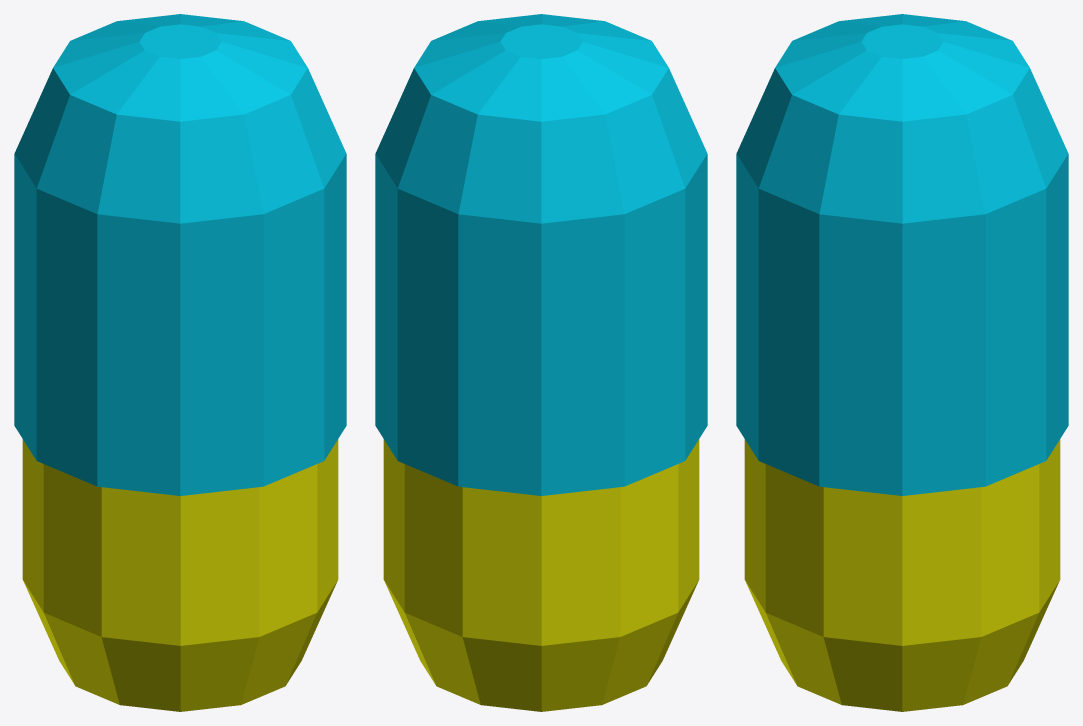
Rendered from capsula_01.fbx.
The picture shows the model from 3 angles, left to right: view 1: azimuth 30°, elevation 25°; view 2: azimuth 150°, elevation 25°; view 3: azimuth 270°, elevation 25°; orthographic projection.
Parts seen in each view (by area): view 1: Capsula; view 2: Capsula; view 3: Capsula.
Part boxes in pixels (box(x1,y1,x2,y2)): Capsula: box(14, 14, 346, 711); Capsula: box(375, 14, 707, 711); Capsula: box(736, 14, 1068, 711).
Size of the model in its own units: 210 by 442 by 210.
